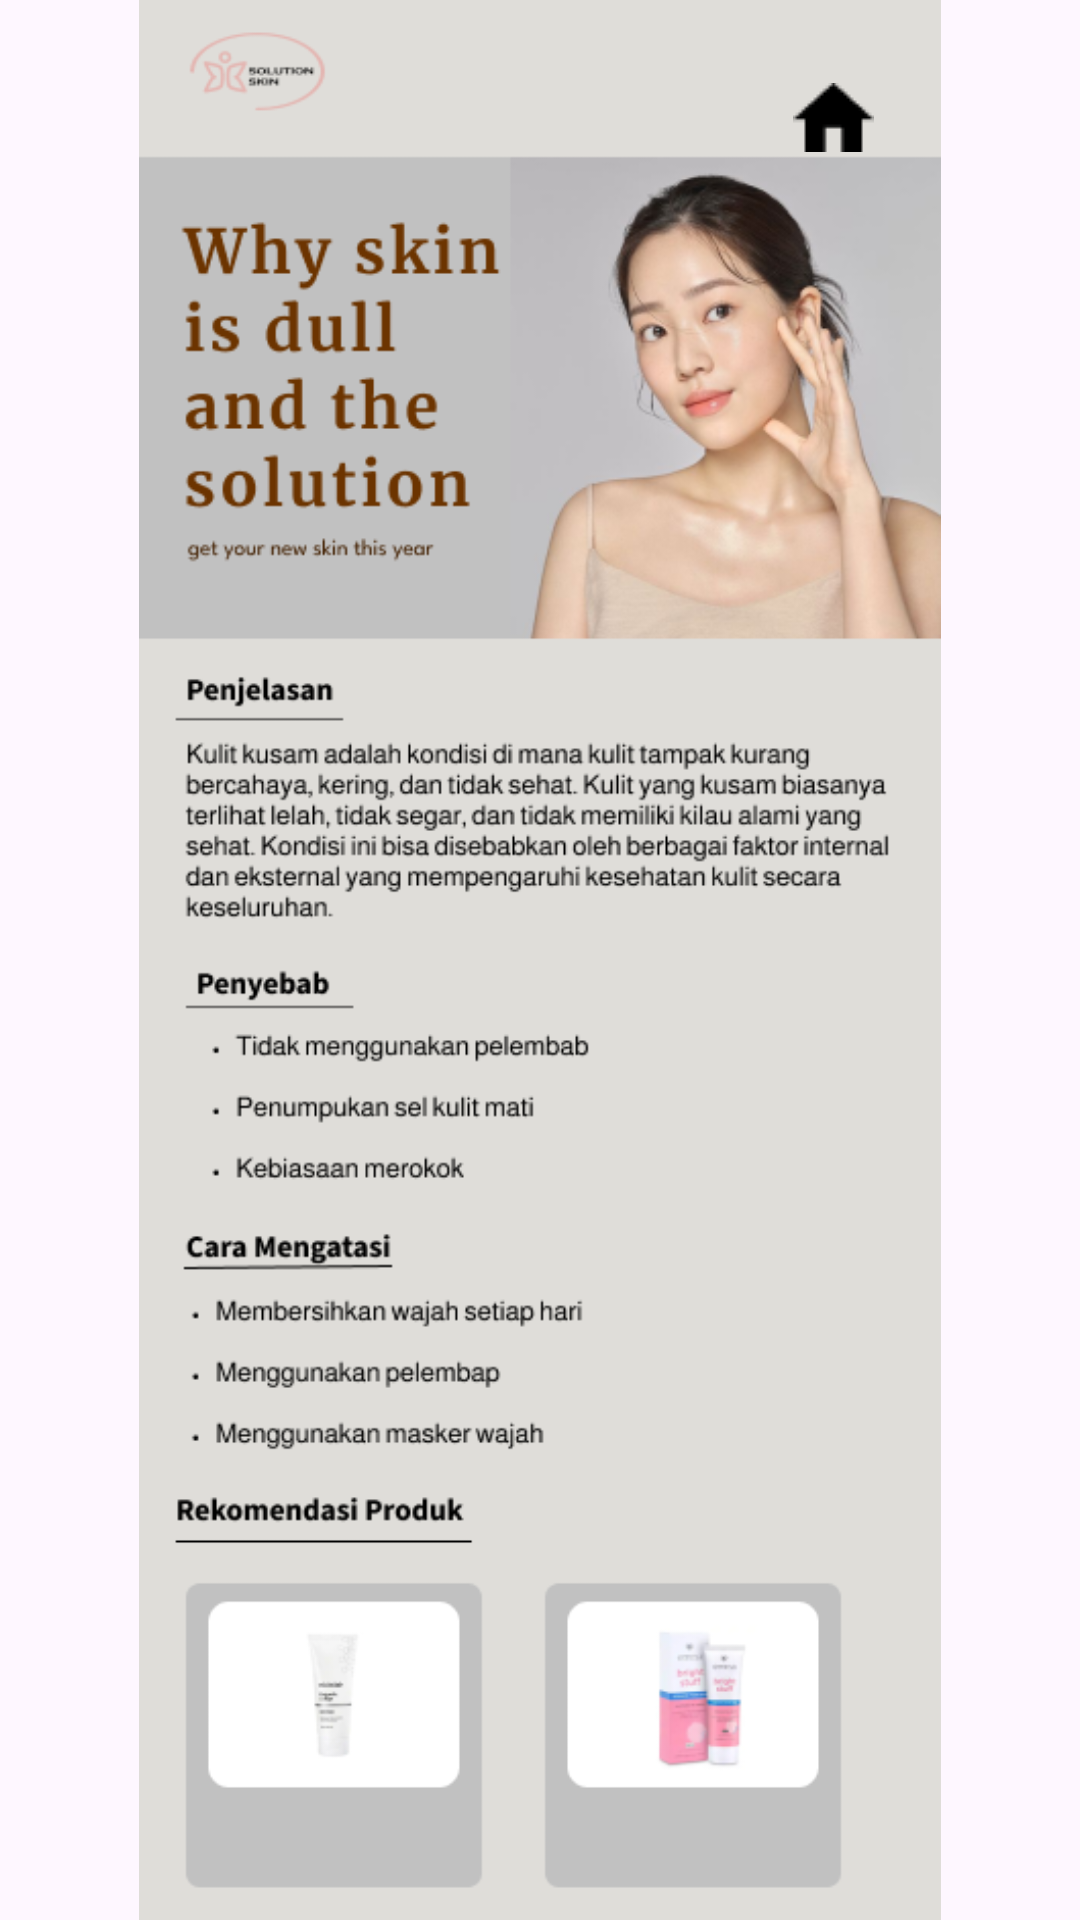

Screen size 1080w x 1920h. Icon name, then its center in pixels as (x=x, y=y):
home: (x=833, y=117)
